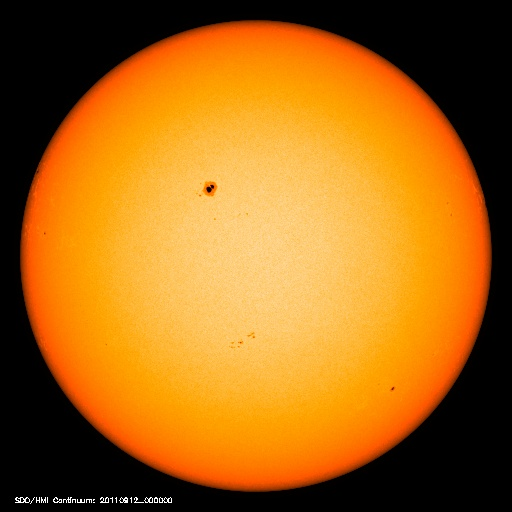sunspot: (186, 172, 226, 204), (222, 328, 262, 351), (373, 374, 405, 402)
